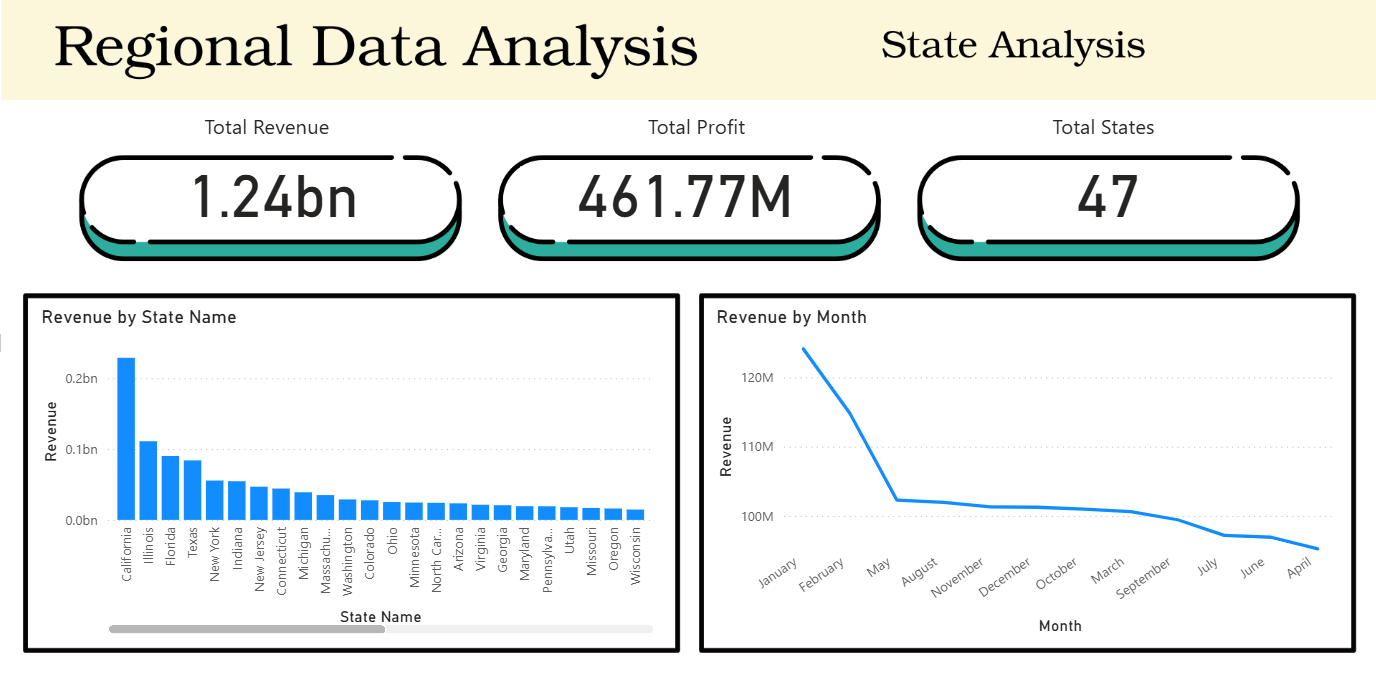

What the dashboard file says about the page in this screenshot:
{"tool":"powerbi","page":{"name":"Page 1","canvas":[1280,720],"ordinal":0},"visuals":[{"type":"image","box":[9.4,0,1269.9,720],"z":0},{"type":"lineChart","fields":{"Category":["Sheet1.month"],"Y":["Sum(Sheet1.revenue)"]},"box":[664.7,327.1,576.9,304.4],"z":1000},{"type":"clusteredColumnChart","fields":{"Category":["Sheet1.state_name"],"Y":["Sum(Sheet1.revenue)"]},"box":[46.9,327.1,569.3,304.4],"z":2000},{"type":"card","fields":{"Values":["Sum(Sheet1.revenue)"]},"box":[116.6,198.4,292.2,60.6],"z":3000},{"type":"card","fields":{"Values":["Sum(Sheet1.profit)"]},"box":[490.6,198.4,299.8,60.6],"z":4000},{"type":"card","fields":{"Values":["Count(Sheet1.state_name)"]},"box":[876.7,198.4,299.8,60.6],"z":5000},{"type":"textbox","box":[170.5,143.7,963.2,36.3],"z":5001}]}

Visuals, with their boxes on the page's 1280x720 design canvas (x1, y1, x2, y2). These are canvas units, not pixel positions in the 1376x685 screenshot, which may show the page scaled, cropped or inside an application window:
image: l=9, t=0, r=1279, b=720
lineChart - Sheet1.month x Sum(Sheet1.revenue): l=665, t=327, r=1242, b=632
clusteredColumnChart - Sheet1.state_name x Sum(Sheet1.revenue): l=47, t=327, r=616, b=632
card - Sum(Sheet1.revenue): l=117, t=198, r=409, b=259
card - Sum(Sheet1.profit): l=491, t=198, r=790, b=259
card - Count(Sheet1.state_name): l=877, t=198, r=1176, b=259
textbox: l=170, t=144, r=1134, b=180
